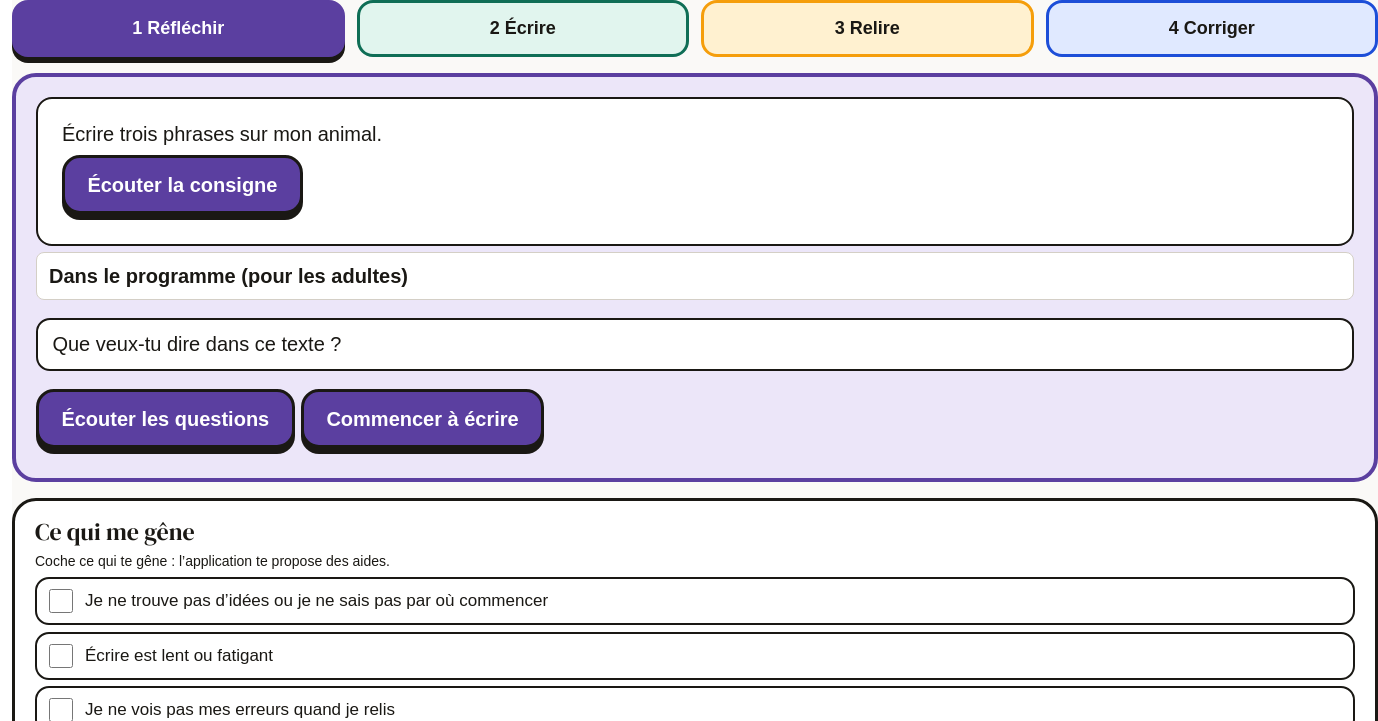
Test: EcranEleve : appareil partagé et reprise (revue finale) › après un échec réseau, l’envoi est retenté tout seul sans que l’élève touche au clavier
The width and height of the screenshot is (1378, 721).
Click the button "Commencer à écrire" at (423, 419), box [301,389,544,448]
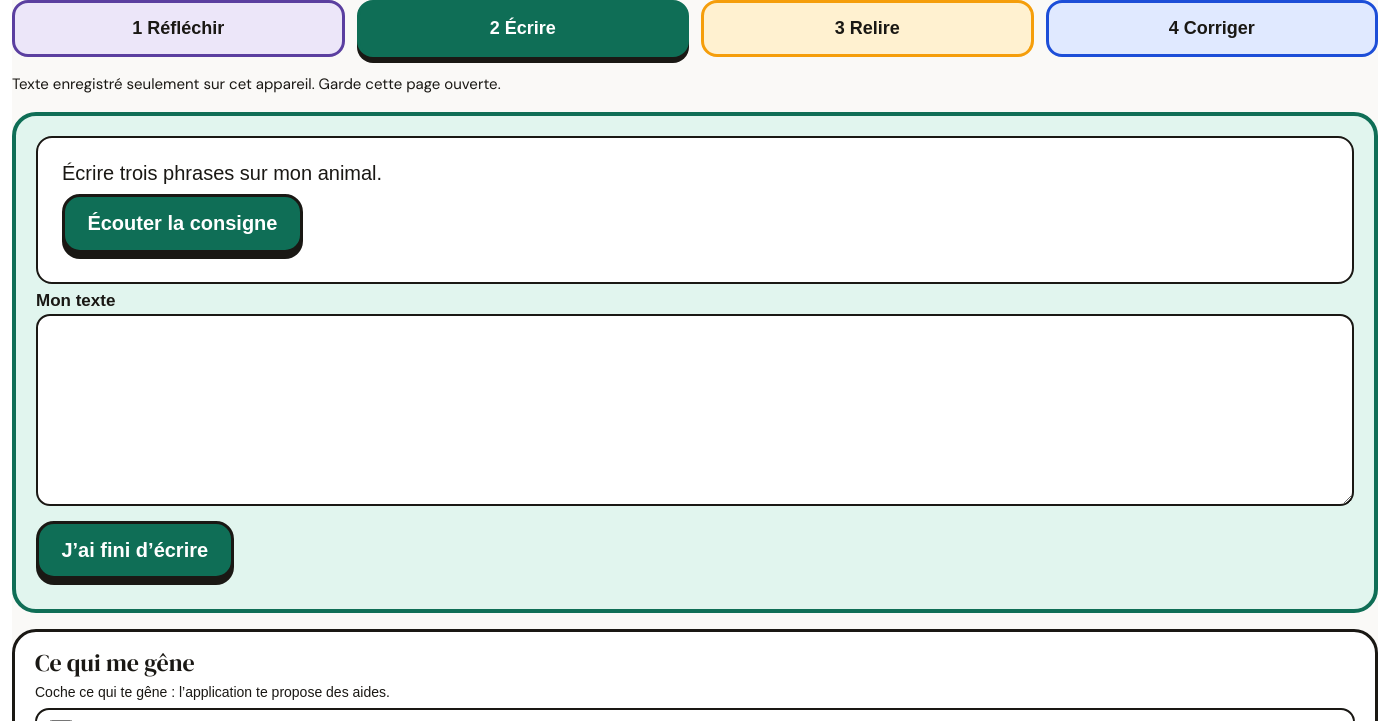
Type "Un" into the text box labelled "Mon texte" at (695, 410), box [36,314,1354,506]
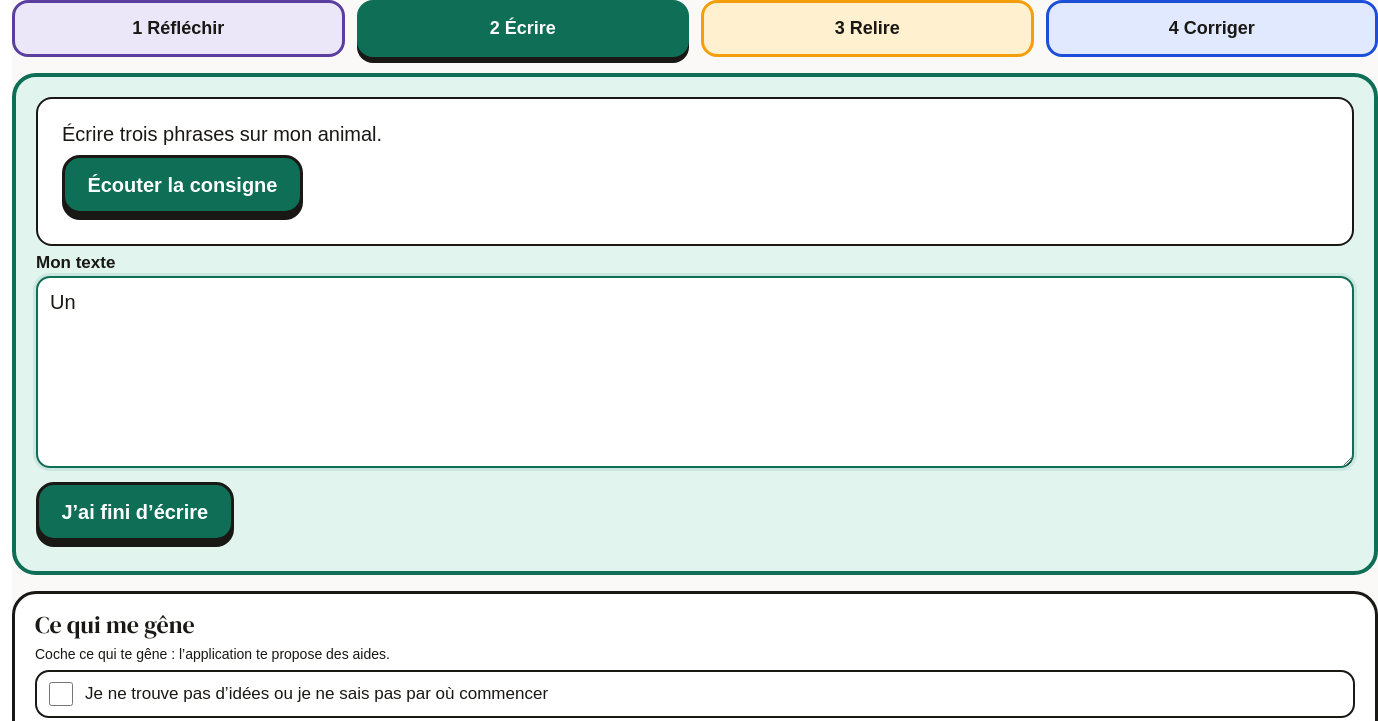
expect the text "seulement sur cet appareil" is gone: met
